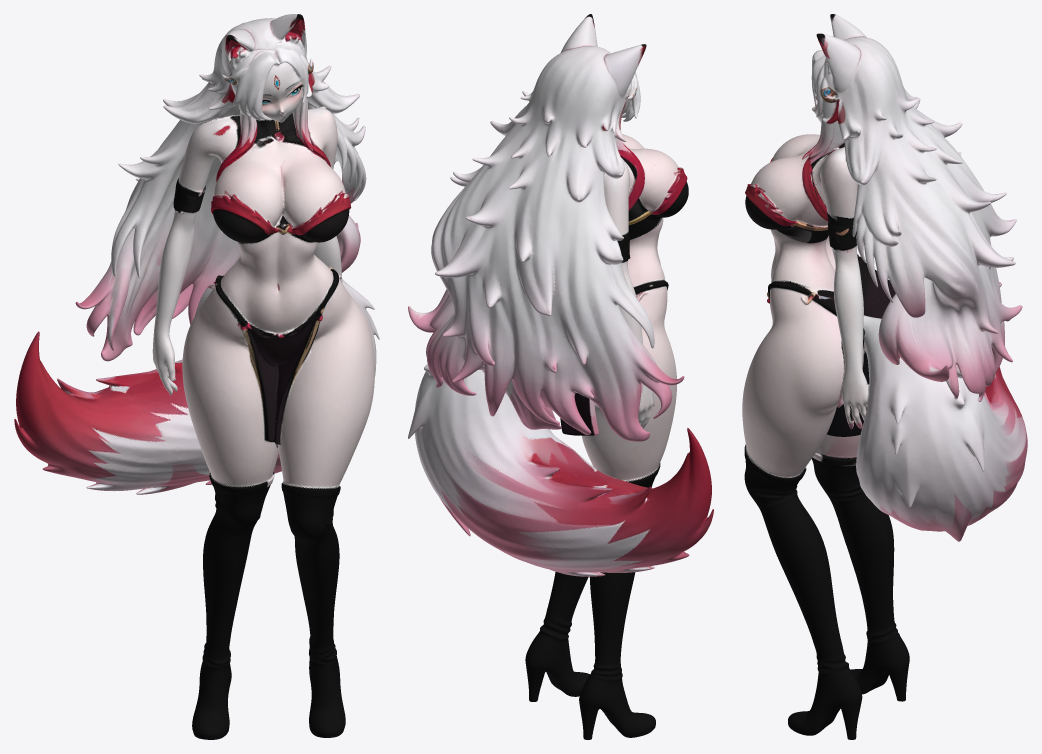
3 views of the same model, side by side, from view 1: azimuth 30°, elevation 25°; view 2: azimuth 150°, elevation 25°; view 3: azimuth 270°, elevation 25° (orthographic). The views are drawn at different scales.
Parts seen in each view (by area): view 1: Object_4, Object_3, Object_2, Object_5; view 2: Object_3, Object_4, Object_2, Object_5; view 3: Object_2, Object_3, Object_5, Object_4.
Boxes of the visible parts, <box> form: Object_4: <box>15,14,342,739</box>; Object_3: <box>115,22,374,651</box>; Object_2: <box>14,17,379,698</box>; Object_5: <box>227,20,374,737</box>; Object_3: <box>435,47,660,739</box>; Object_4: <box>456,14,711,737</box>; Object_2: <box>408,107,713,737</box>; Object_5: <box>435,63,590,701</box>; Object_2: <box>745,95,1012,724</box>; Object_3: <box>742,17,1027,701</box>; Object_5: <box>742,39,1020,739</box>; Object_4: <box>745,14,1022,694</box>.
Bounding box in the file's own units: 0.9188 × 1.9 × 0.7166.
1 material, 1 textured.
